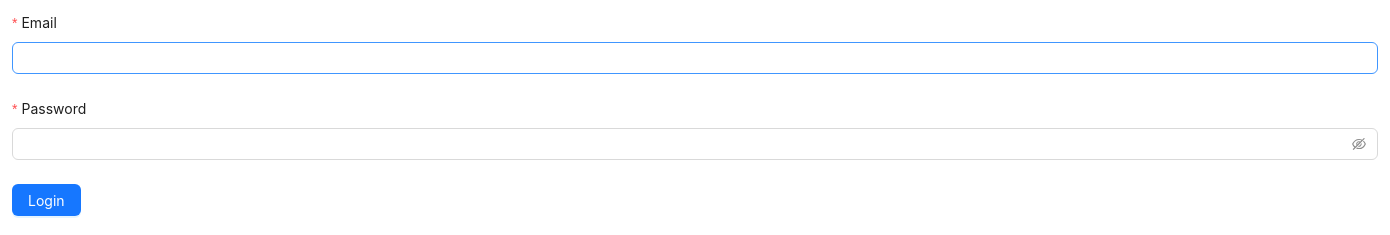
Test: AuthForm › shows validation errors when form is submitted empty
This screenshot has width=1390, height=235.
Click the button "Login" at coordinates (46, 200), box [12,184,81,216]
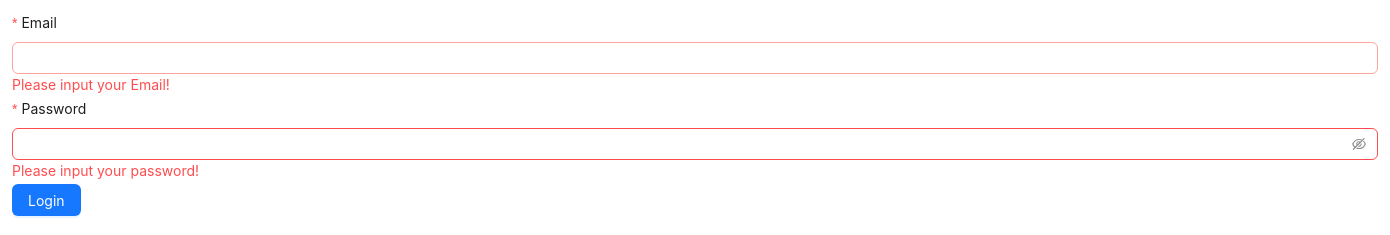
Result: the text "Please input your Email!" is shown at [12,76,170,93]
Result: the text "Please input your password!" is shown at [12,162,199,179]
